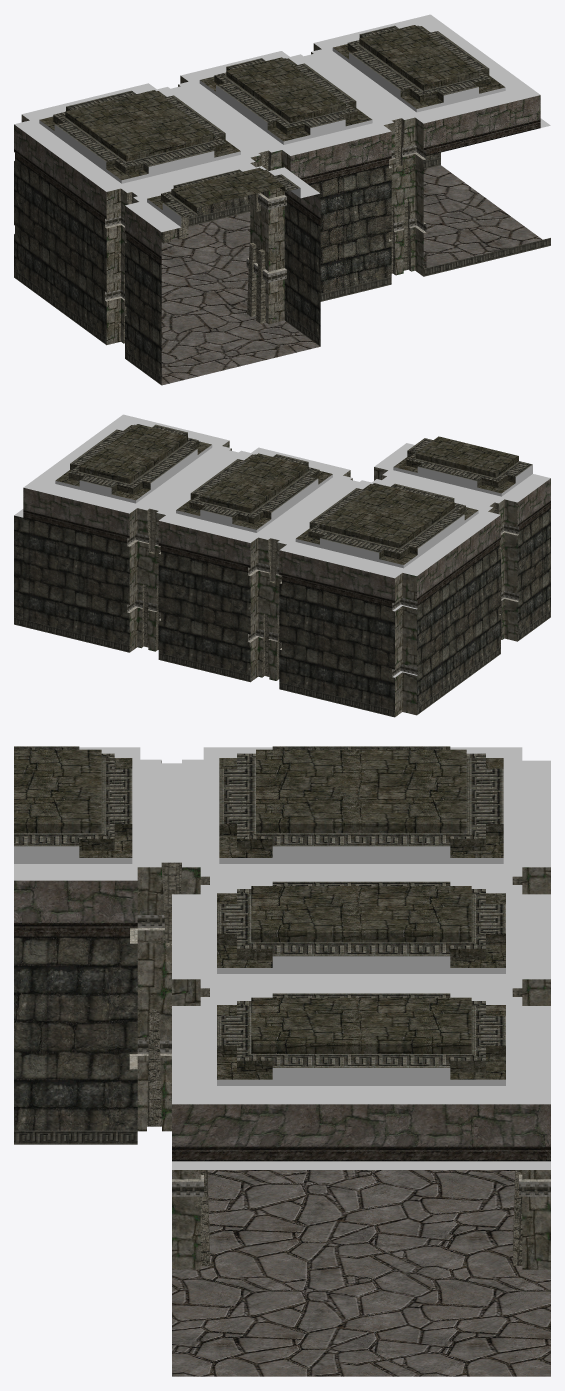
File: thm_yavn_temple_exar_kun_r8_mesh_r8.fbx
3 renders of one model, top to bottom at view 1: azimuth 30°, elevation 25°; view 2: azimuth 150°, elevation 25°; view 3: azimuth 270°, elevation 25°, orthographic. The views are drawn at different scales.
Parts seen in each view (by area): view 1: mesh_node; view 2: mesh_node; view 3: mesh_node.
Part boxes in pixels (box(x1,y1,x2,y2)): mesh_node: box(14, 14, 550, 385); mesh_node: box(14, 414, 550, 717); mesh_node: box(14, 746, 550, 1376).
Bounding box in the file's own units: 13.7 × 5.09 × 8.5.
